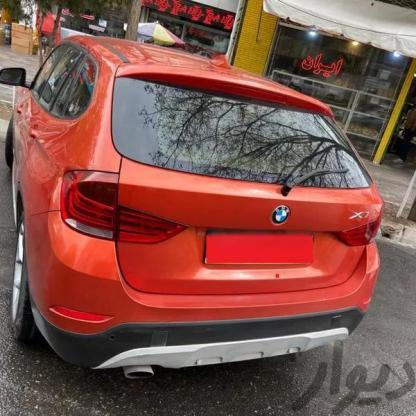Car: (0, 24, 379, 395)
